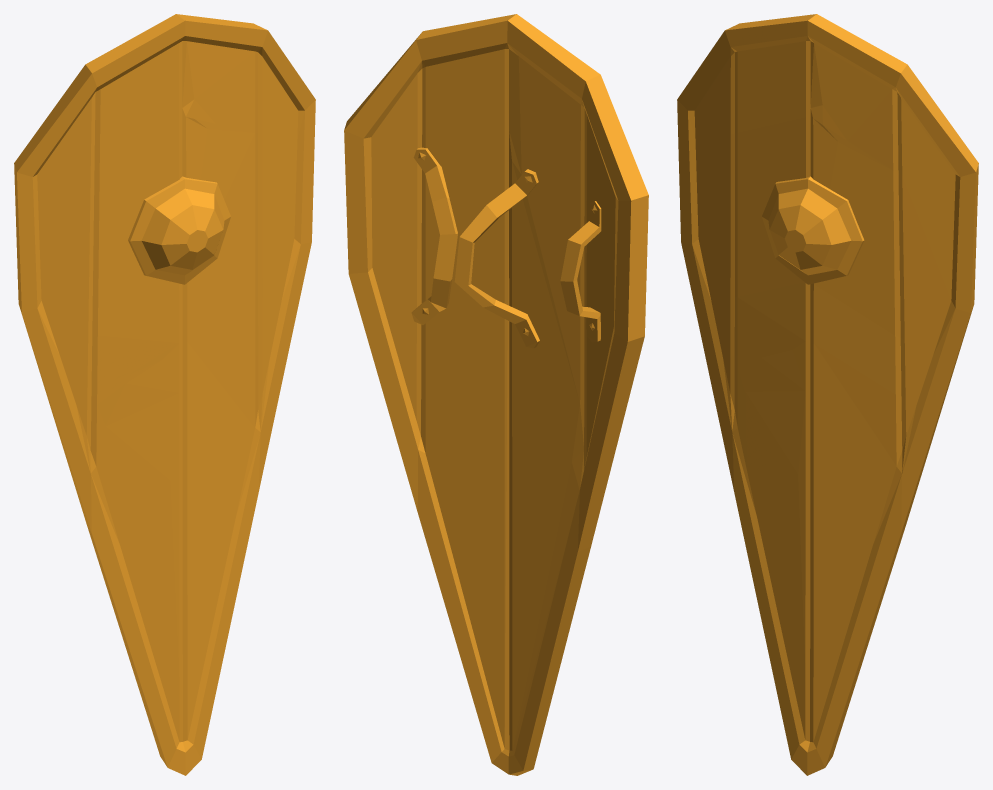
File: SM_Shield_Kite_Boss_D.fbx
3 renders of one model, left to right at view 1: azimuth 30°, elevation 25°; view 2: azimuth 150°, elevation 25°; view 3: azimuth 330°, elevation 25°, orthographic.
Parts seen in each view (by area): view 1: shield-kite-boss-d; view 2: shield-kite-boss-d; view 3: shield-kite-boss-d.
Part boxes in pixels (left/top/right/bottom): shield-kite-boss-d: left=14, top=14, right=315, bottom=775; shield-kite-boss-d: left=344, top=14, right=648, bottom=775; shield-kite-boss-d: left=677, top=14, right=978, bottom=775.
Bounding box in the file's own units: 0.6127 × 1.48 × 0.1888.
